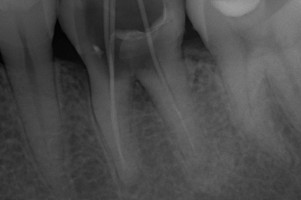Endo-Periodontal Lesion: (131, 79, 156, 112)
